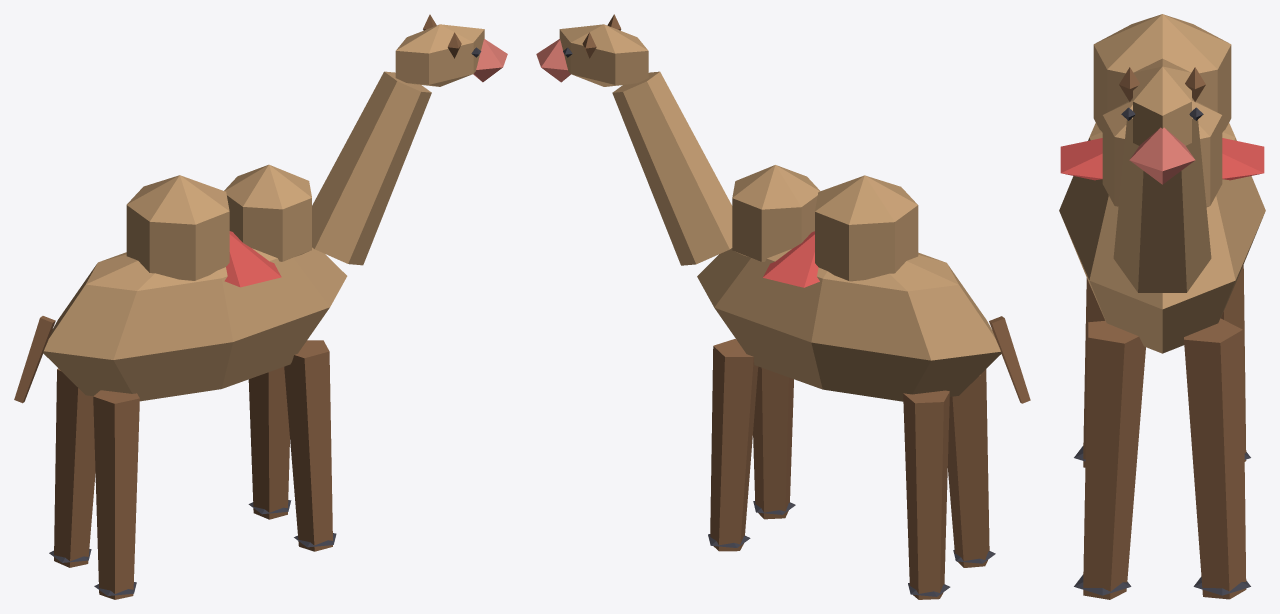
The model's file is deco_camel.obj.
3 views of the same model, side by side, from view 1: azimuth 30°, elevation 25°; view 2: azimuth 150°, elevation 25°; view 3: azimuth 270°, elevation 25° (orthographic). The views are drawn at different scales.
Visible parts, largest first — view 1: deco_camel; view 2: deco_camel; view 3: deco_camel.
Part boxes in pixels (x1,y1,x2,y2): deco_camel: (14,14,507,599); deco_camel: (536,14,1030,599); deco_camel: (1059,14,1265,599).
Size of the model in its own units: 0.0692 by 0.063 by 0.019.
1 material, 1 textured.
